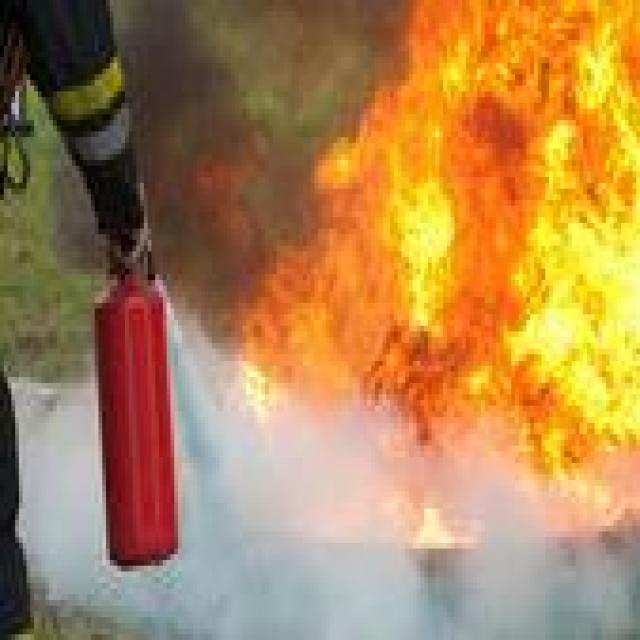fire_extinguisher: (84, 168, 174, 568)
